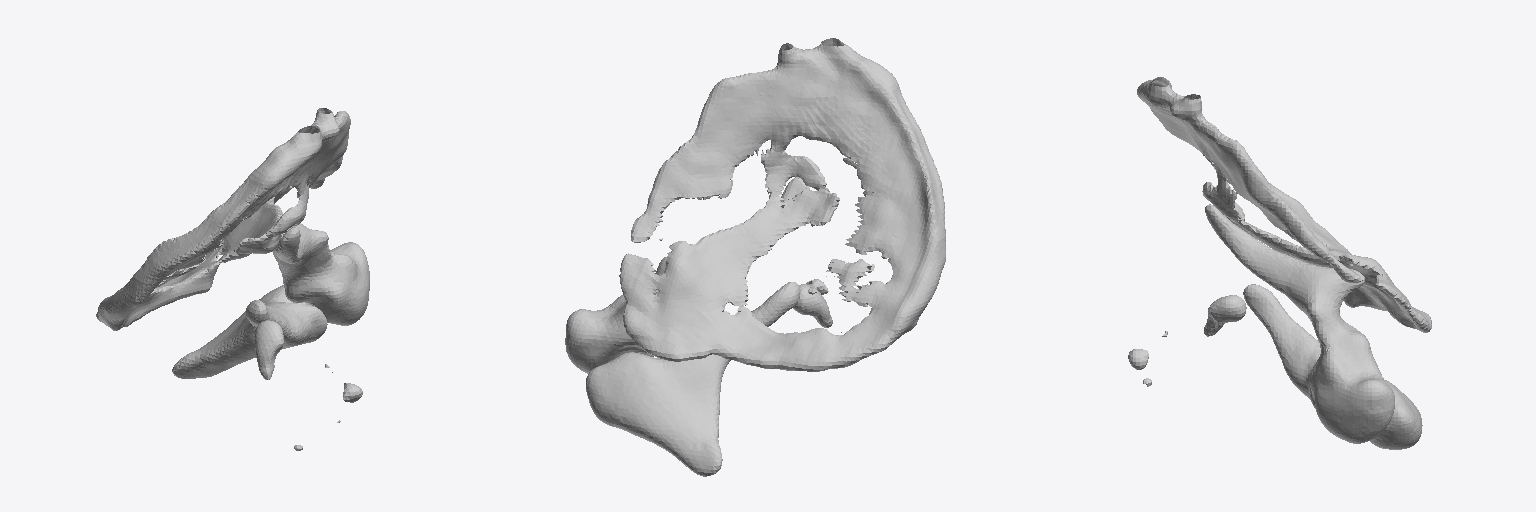
The model's file is concat_13641ot.obj.
The picture shows the model from 3 angles: view 1: azimuth 30°, elevation 25°; view 2: azimuth 150°, elevation 25°; view 3: azimuth 270°, elevation 25°; orthographic projection.
Bounding box in the file's own units: 95.1 × 101 × 81.42.